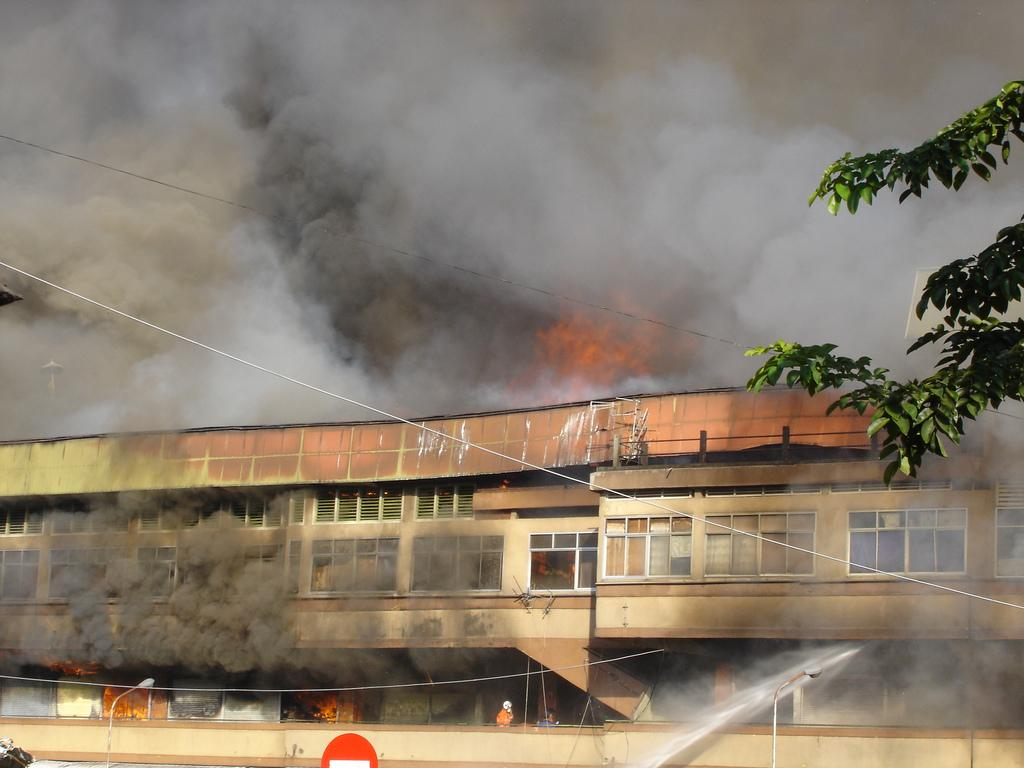fire: (548, 306, 704, 378), (106, 680, 172, 726), (288, 690, 356, 724)
smoke: (416, 62, 780, 238), (32, 124, 226, 402), (82, 564, 262, 660), (252, 328, 370, 414)
